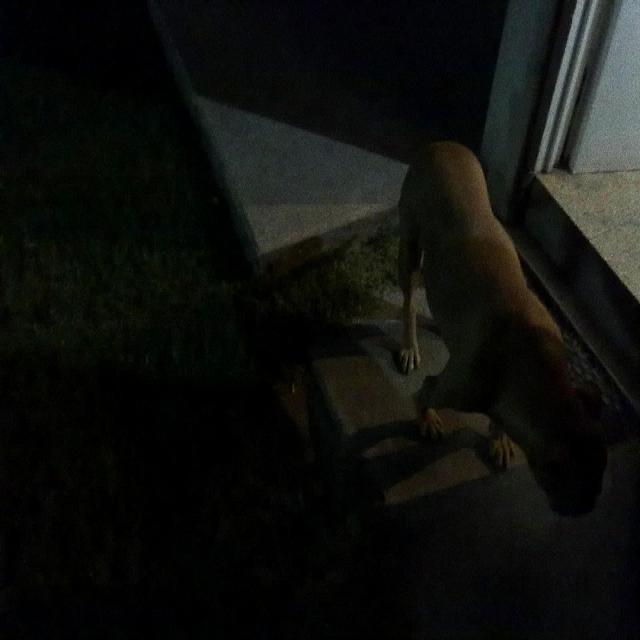Dog: (365, 122, 640, 626)
